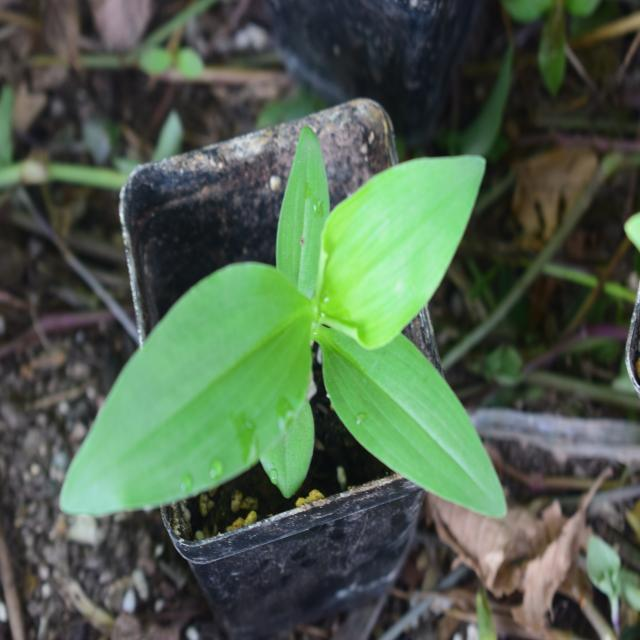Common Dayflower: (59, 151, 510, 539)
